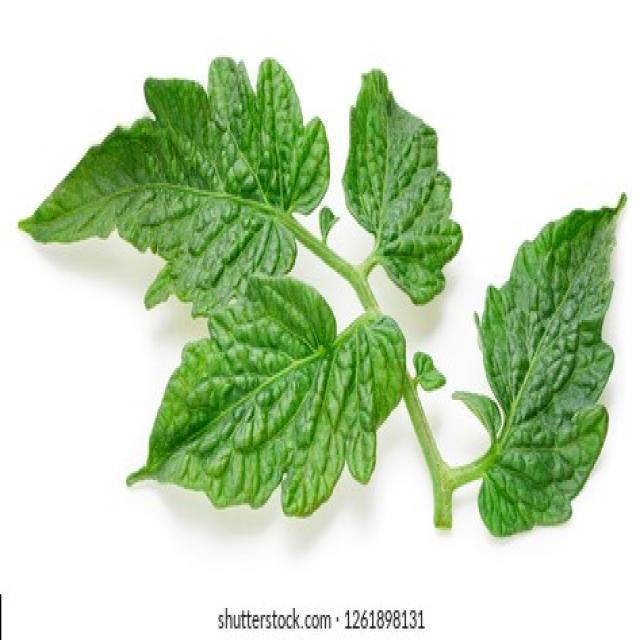Healthy Leaf: (8, 58, 324, 299), (126, 285, 414, 517), (480, 193, 630, 537), (347, 58, 460, 300)
